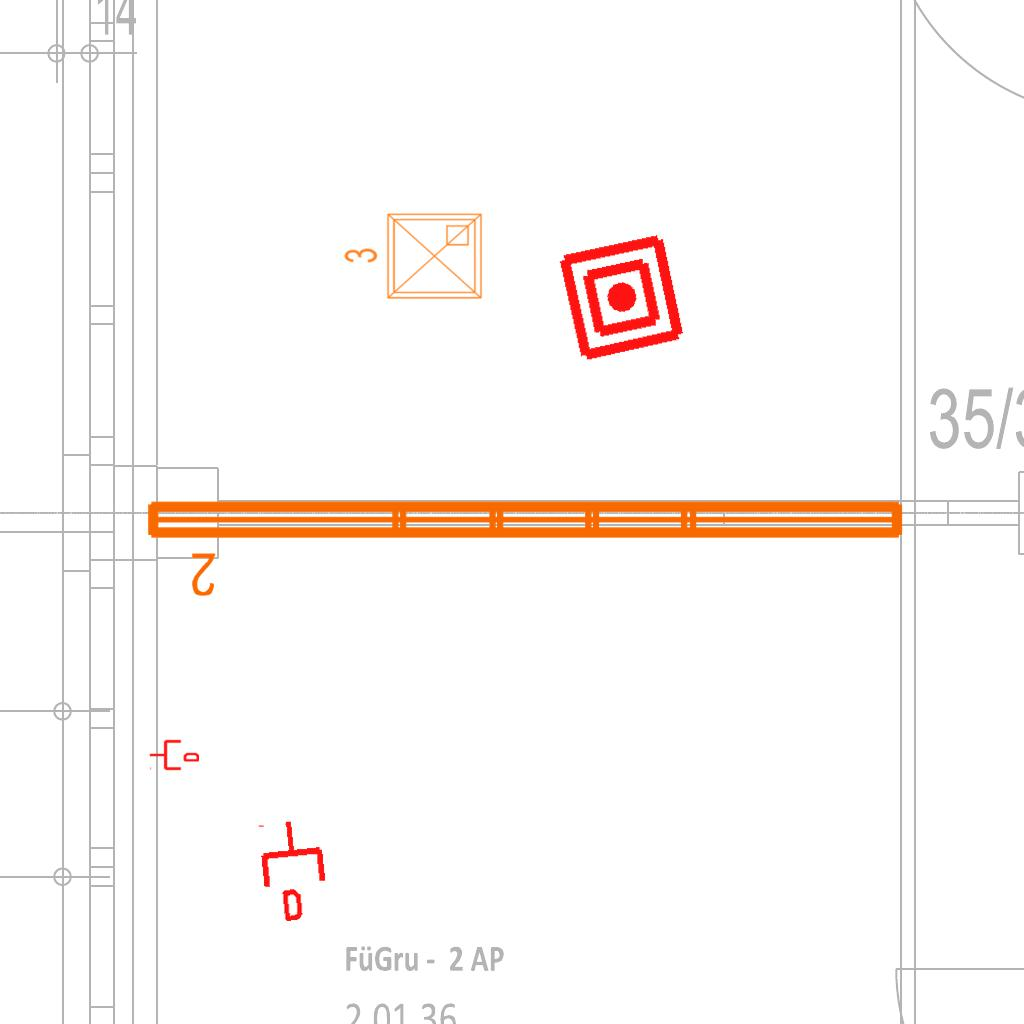Ambulanz_Pendelleuchte_LED: (139, 489, 913, 601)
Datenanschluss_einfach: (253, 816, 334, 924), (149, 738, 199, 772)
Einbaudownlights_LED_Konferenzraeume: (339, 206, 489, 310)
NAM-Nichtautomatischer_Melder: (554, 230, 689, 365)
